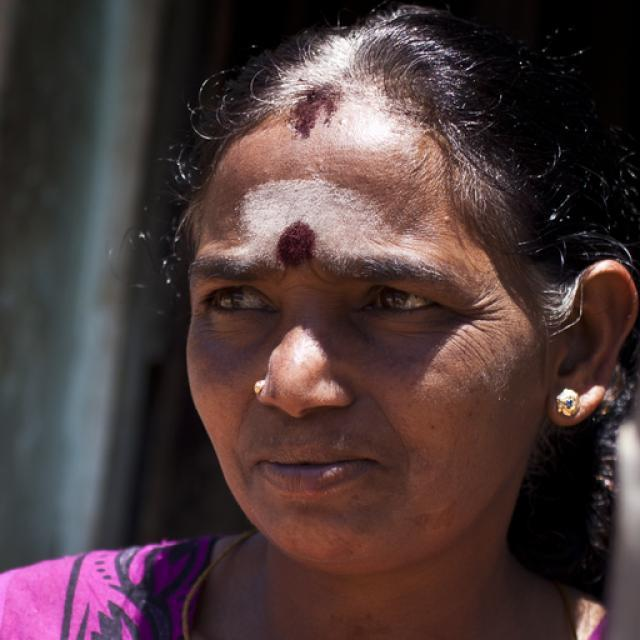disgust: (189, 113, 545, 576)
